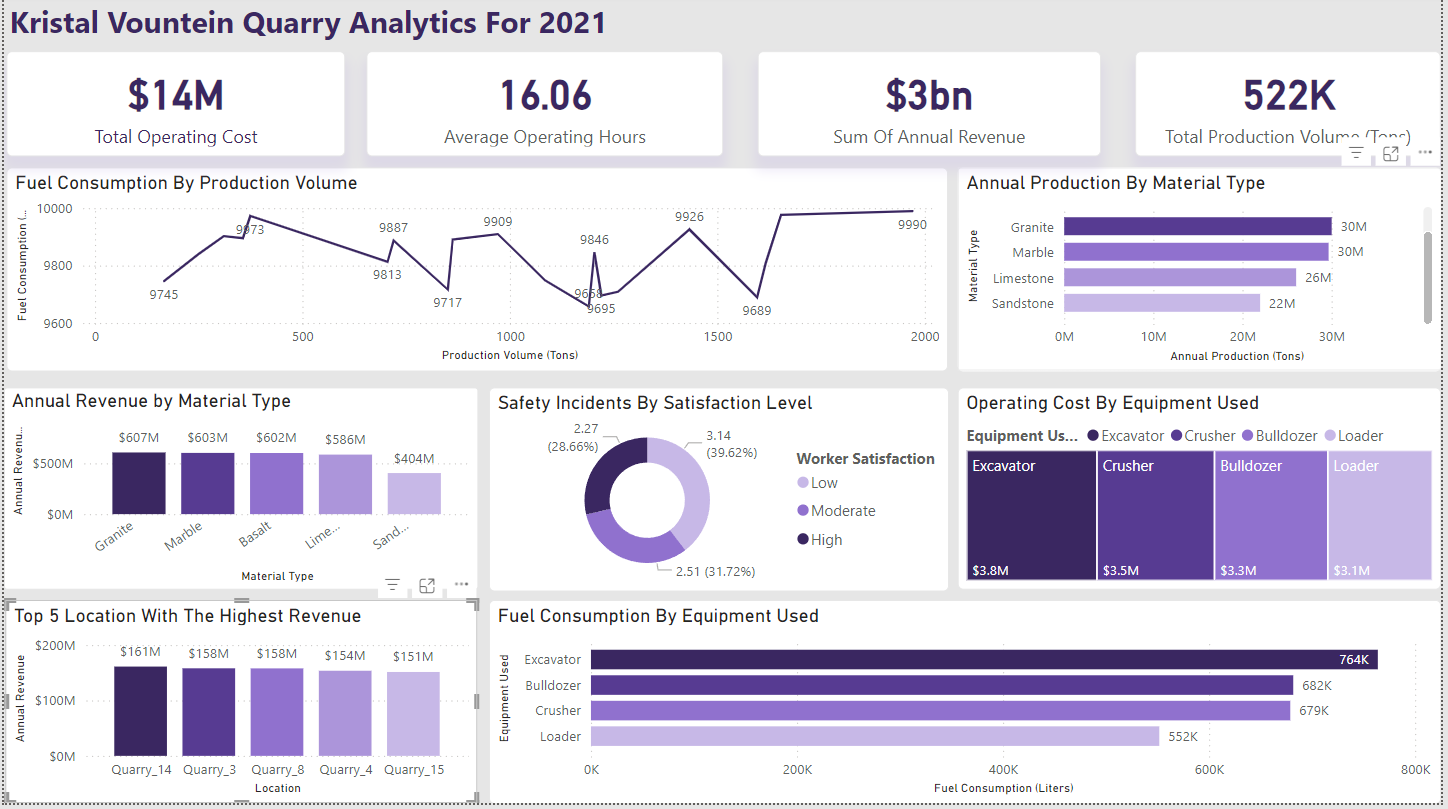

This screenshot's page, from the dashboard's own definition file:
{"tool":"powerbi","page":{"name":"Page 1","canvas":[1330,739],"ordinal":0},"visuals":[{"type":"barChart","title":"Fuel Consumption By Equipment Used","fields":{"Y":["quarry_operations_dataset_expan (2).Fuel_Consumption_Liters"],"Category":["quarry_operations_dataset_expan (2).Equipment_Used"]},"box":[431.9,538.7,847.9,181.6],"z":0},{"type":"card","fields":{"Values":["quarry_operations_dataset_expan (2).Operating_Hours"]},"box":[322.7,50.3,317.8,93.3],"z":1000},{"type":"treemap","title":"Operating Cost By Equipment Used","fields":{"Group":["quarry_operations_dataset_expan (2).Equipment_Used"],"Values":["quarry_operations_dataset_expan (2).Operating_Cost_USD"]},"box":[849.1,349.7,430.7,180.4],"z":2000},{"type":"card","fields":{"Values":["quarry_operations_dataset_expan (2).Production_Volume_Tons"]},"box":[1007.4,50.3,272.4,93.3],"z":3000},{"type":"lineChart","title":" Fuel Consumption By Production Volume ","fields":{"Y":["quarry_operations_dataset_expan (2).Fuel_Consumption_Liters"],"Category":["quarry_operations_dataset_expan (2).Production_Volume_Tons"]},"box":[2.5,153.8,838.8,181.2],"z":4000},{"type":"clusteredColumnChart","fields":{"Category":["quarry_operations_dataset_expan (2).Material_Type"],"Y":["quarry_operations_dataset_expan (2).Annual_Revenue_USD"]},"box":[0,349.7,422.1,180.4],"z":5000},{"type":"clusteredBarChart","title":"Annual Production By Material Type","fields":{"Category":["quarry_operations_dataset_expan (2).Material_Type"],"Y":["quarry_operations_dataset_expan (2).Annual_Production_Tons"]},"box":[849.1,153.4,430.7,181.6],"z":6000},{"type":"donutChart","title":"Safety Incidents By Satisfaction Level","fields":{"Category":["quarry_operations_dataset_expan (2).Worker_Satisfaction"],"Y":["quarry_operations_dataset_expan (2).Safety_Incidents"]},"box":[431.9,349.7,409.8,181.6],"z":7000},{"type":"card","fields":{"Values":["quarry_operations_dataset_expan (2).Annual_Revenue_USD"]},"box":[671.2,50.3,305.5,93.3],"z":8000},{"type":"card","fields":{"Values":["quarry_operations_dataset_expan (2).Operating_Cost_USD"]},"box":[2.5,50.3,301.8,93.3],"z":9000},{"type":"columnChart","title":"Top 5 Location With The Highest Revenue","fields":{"Y":["quarry_operations_dataset_expan (2).Annual_Revenue_USD"],"Category":["quarry_operations_dataset_expan (2).Location"]},"box":[1.2,538.7,420.9,181.6],"z":10000},{"type":"textbox","box":[0,0,605,50],"z":11000}]}

Visuals, with their boxes in screenshot pixels (x1, y1, x2, y2), scaled from the page's 1330x739 canvas onto the 1448x809 screenshot:
"Fuel Consumption By Equipment Used" barChart: bbox=(470, 590, 1393, 789)
card - quarry_operations_dataset_expan (2).Operating_Hours: bbox=(351, 55, 697, 157)
"Operating Cost By Equipment Used" treemap: bbox=(924, 383, 1393, 580)
card - quarry_operations_dataset_expan (2).Production_Volume_Tons: bbox=(1097, 55, 1393, 157)
" Fuel Consumption By Production Volume " lineChart: bbox=(3, 168, 916, 367)
clusteredColumnChart - quarry_operations_dataset_expan (2).Material_Type x quarry_operations_dataset_expan (2).Annual_Revenue_USD: bbox=(0, 383, 460, 580)
"Annual Production By Material Type" clusteredBarChart: bbox=(924, 168, 1393, 367)
"Safety Incidents By Satisfaction Level" donutChart: bbox=(470, 383, 916, 582)
card - quarry_operations_dataset_expan (2).Annual_Revenue_USD: bbox=(731, 55, 1063, 157)
card - quarry_operations_dataset_expan (2).Operating_Cost_USD: bbox=(3, 55, 331, 157)
"Top 5 Location With The Highest Revenue" columnChart: bbox=(1, 590, 460, 789)
textbox: bbox=(0, 0, 659, 55)
